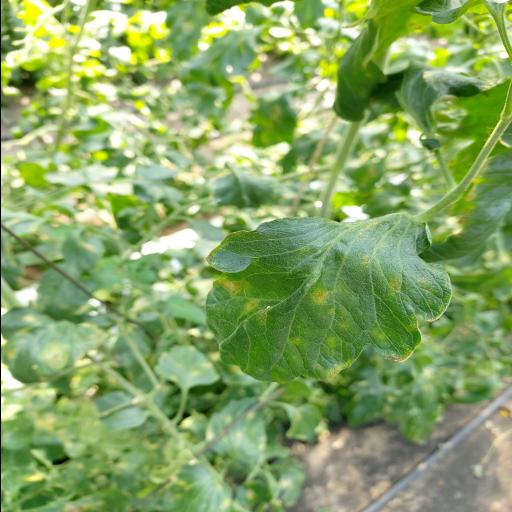disease_tomato: (205, 212, 452, 382)
